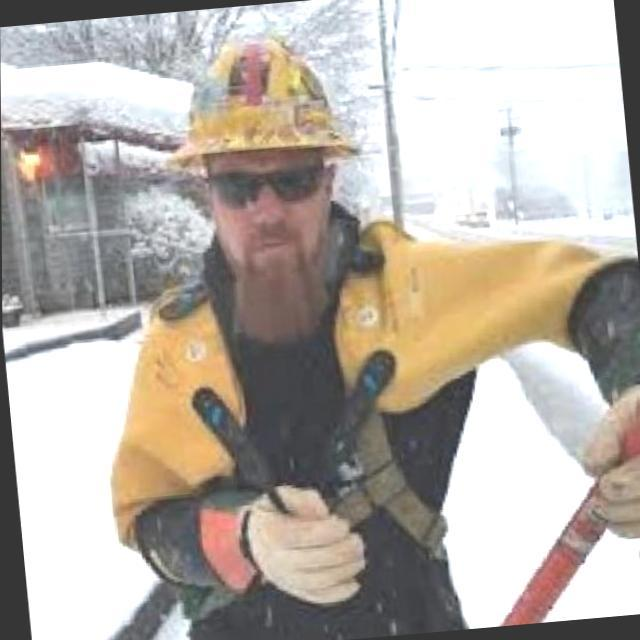goggles_on: (200, 154, 341, 220)
